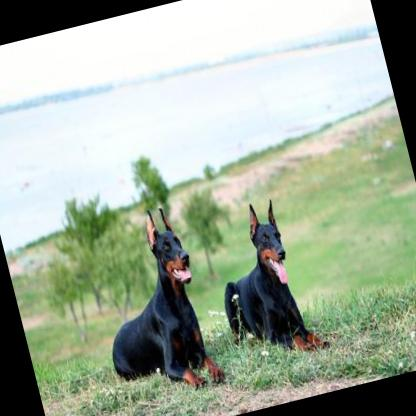Doberman: (76, 194, 228, 406), (200, 192, 328, 376)
